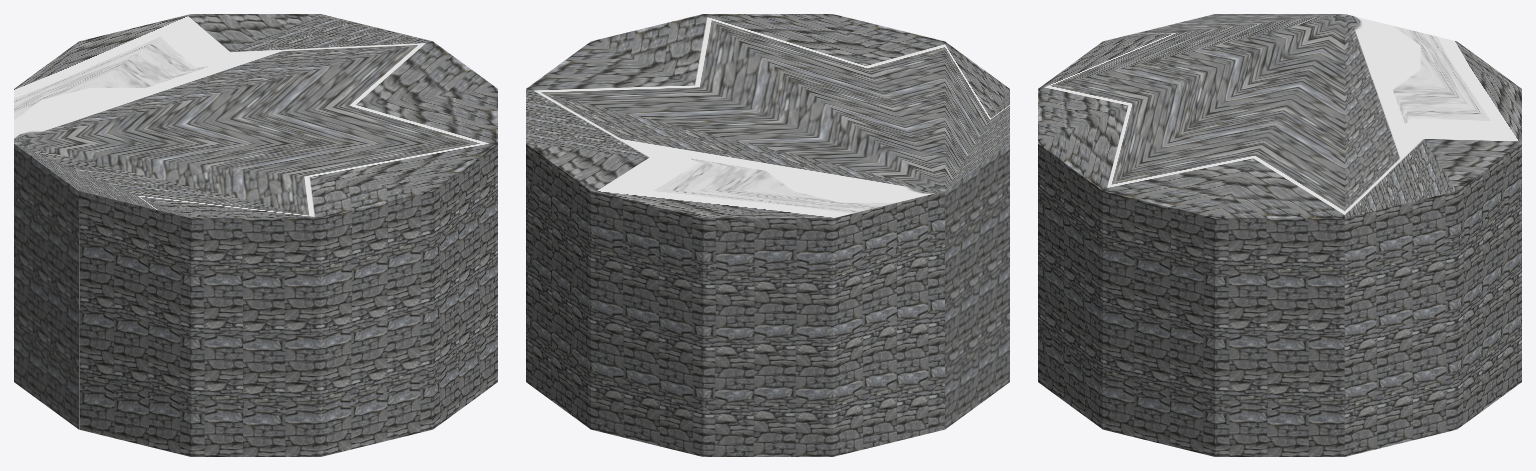
Rendered from tower_first_floor_occluder.fbx.
3 renders of one model, left to right at view 1: azimuth 30°, elevation 25°; view 2: azimuth 150°, elevation 25°; view 3: azimuth 270°, elevation 25°, orthographic.
Visible parts, largest first — view 1: OCCLUDER; view 2: OCCLUDER; view 3: OCCLUDER.
Part boxes in pixels (bbox=[...]): OCCLUDER: bbox=[14, 14, 497, 456]; OCCLUDER: bbox=[526, 14, 1009, 456]; OCCLUDER: bbox=[1038, 14, 1521, 456].
Bounding box in the file's own units: 6182 × 3364 × 6182.
